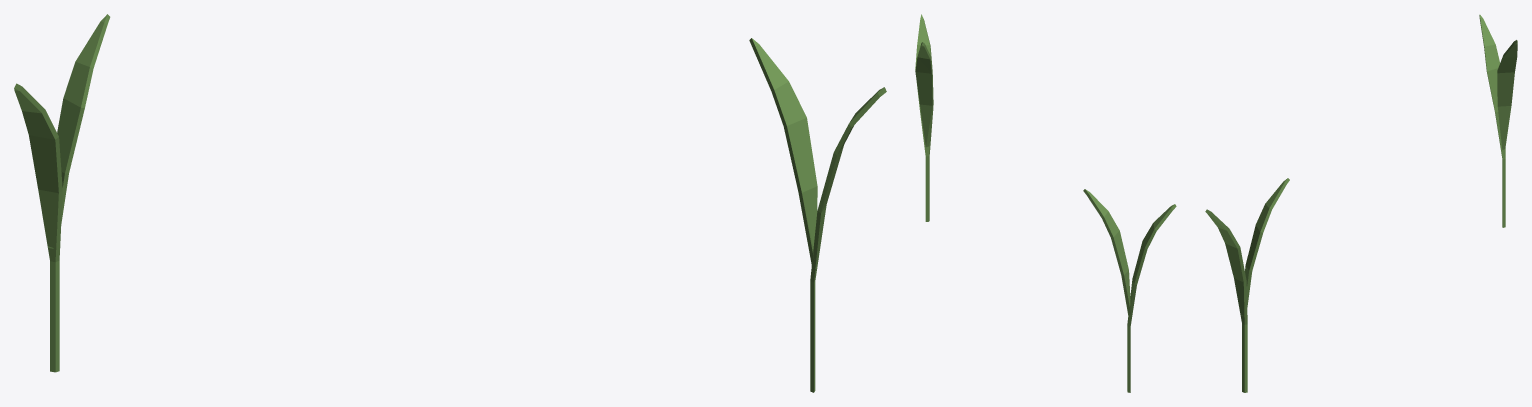
The model's file is crop_corn.s1.glb.
The picture shows the model from 3 angles, left to right: view 1: azimuth 30°, elevation 25°; view 2: azimuth 150°, elevation 25°; view 3: azimuth 270°, elevation 25°; orthographic projection. The views are drawn at different scales.
Size of the model in its own units: 0.4014 by 0.1969 by 0.2703.
